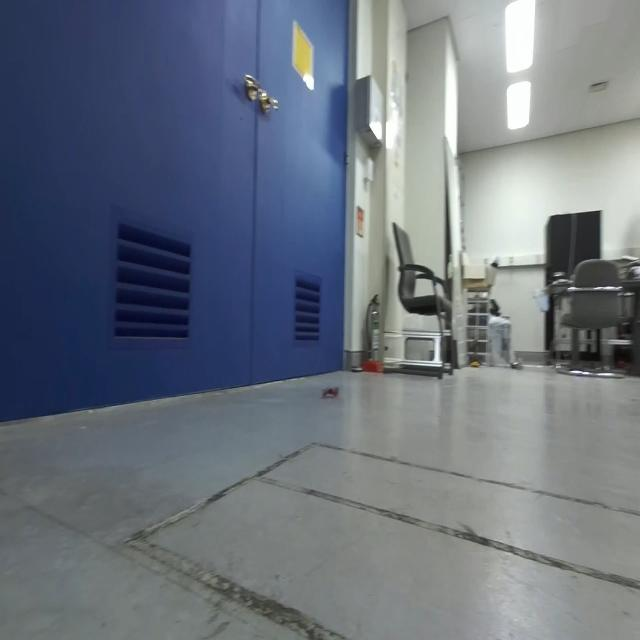crazyflie: (315, 382, 344, 407)
